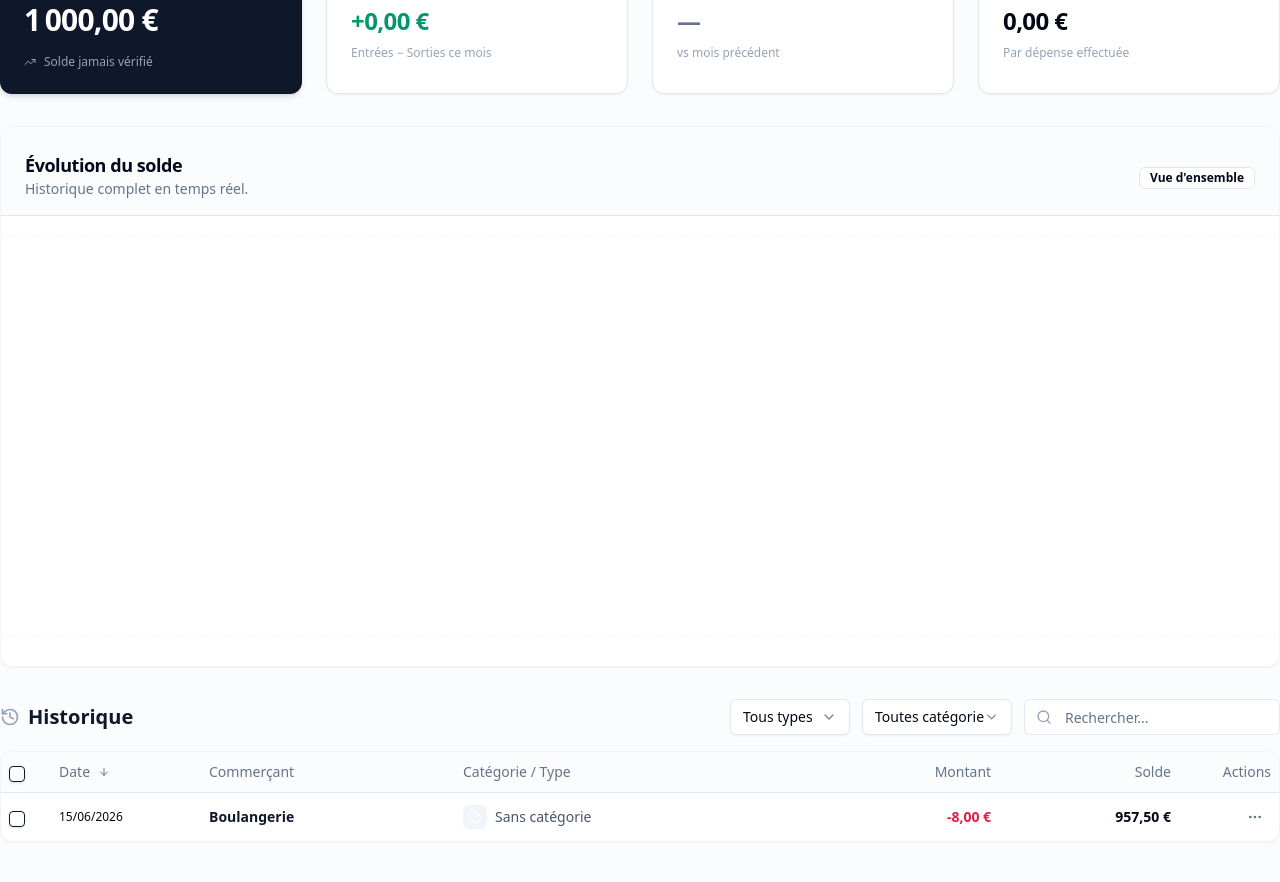
Scenario: AccountDetail : transactions › édition : dialogue prérempli, PATCH sans account_id, date naïve, toast
(page scrolled)
Step 1. Click the button titled "Actions" → coordinates (1255, 816), box [1239,800,1271,832]
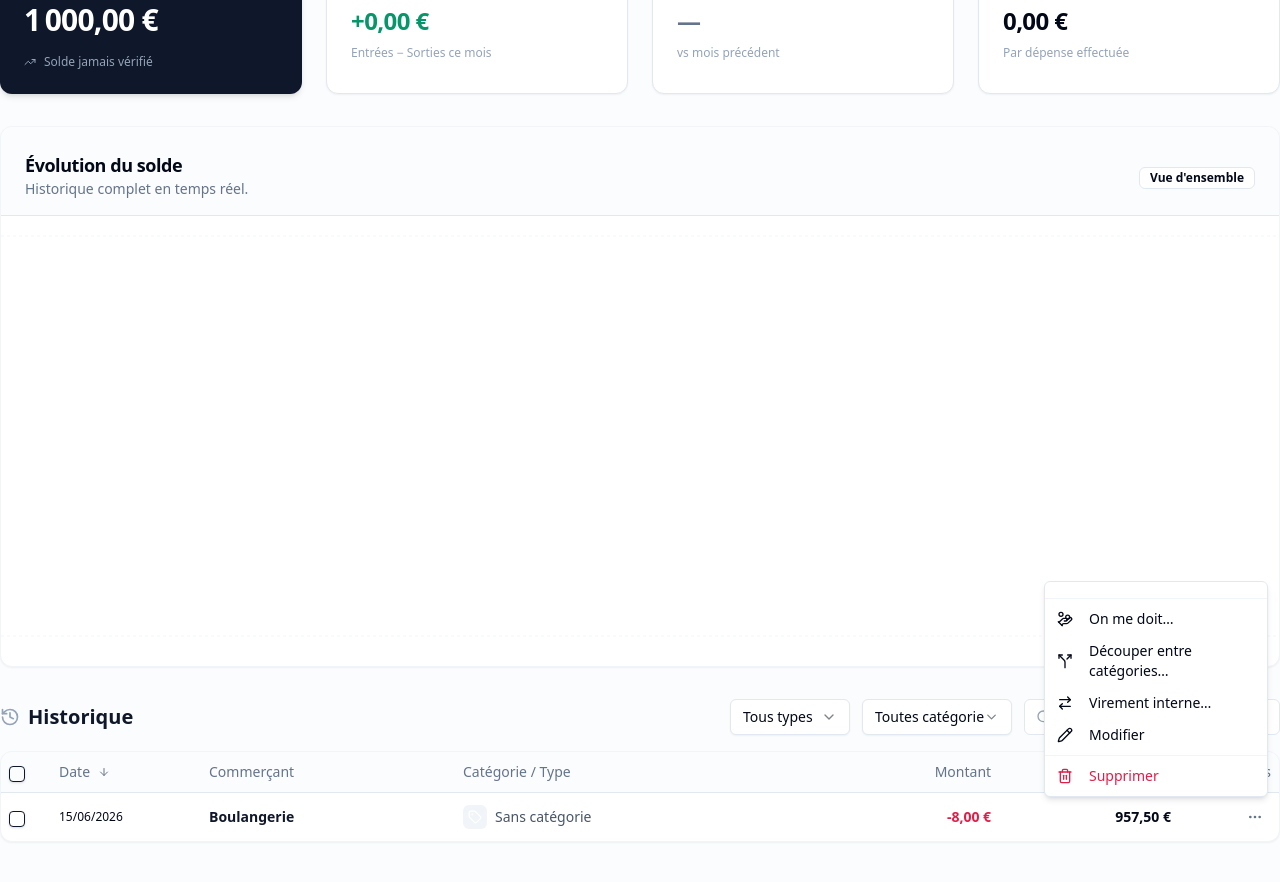
Step 2. Click the menu item "Modifier" → coordinates (1101, 734), box [1057,725,1144,744]
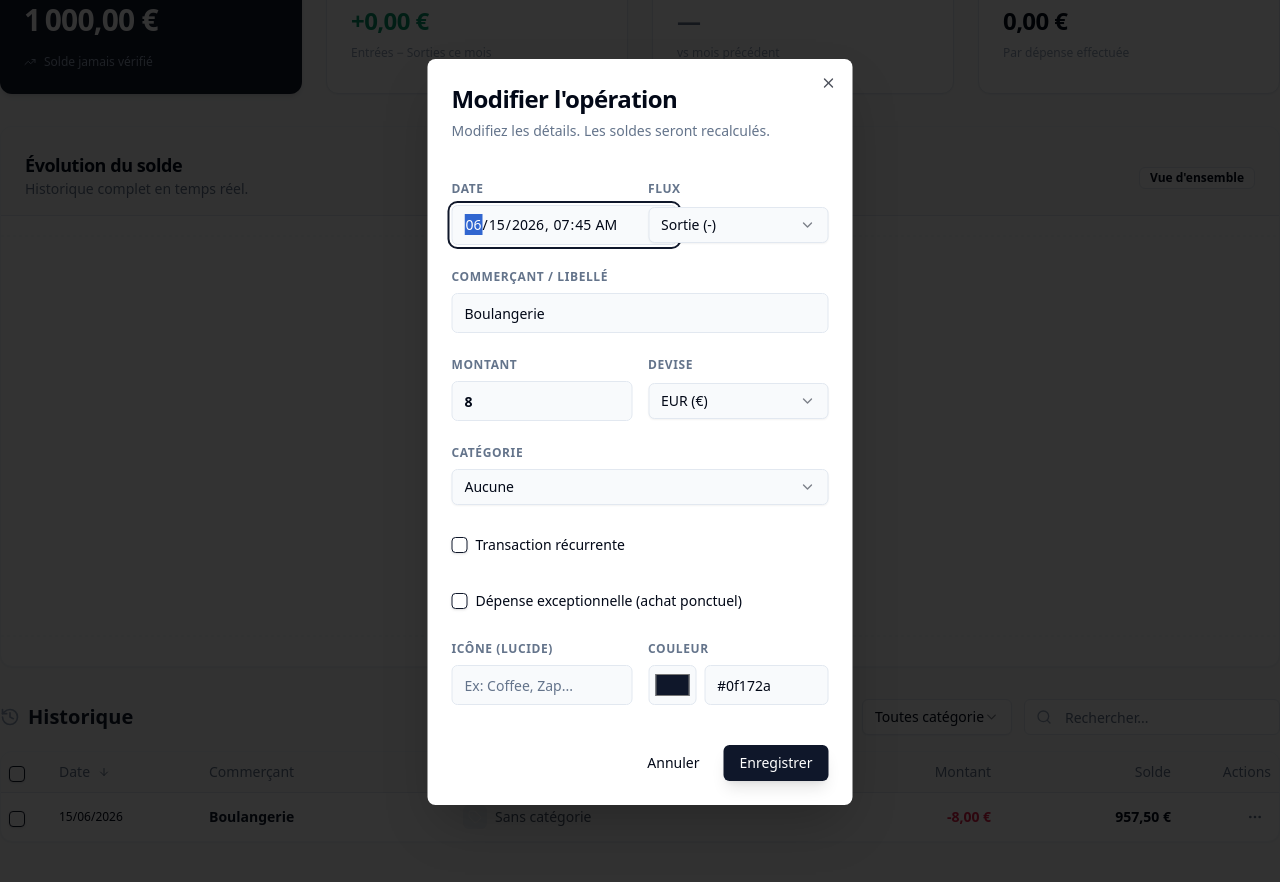
Now the heading "Modifier l'opération" is shown, box [452,82,677,115]
Now the field labelled "Date" holds "2026-06-15T07:45", box [452,205,678,245]
Now the number field labelled "Montant" holds "8"
Step 3. Replace the text in the number field labelled "Montant" with "9.2" → coordinates (542, 401), box [452,381,632,421]
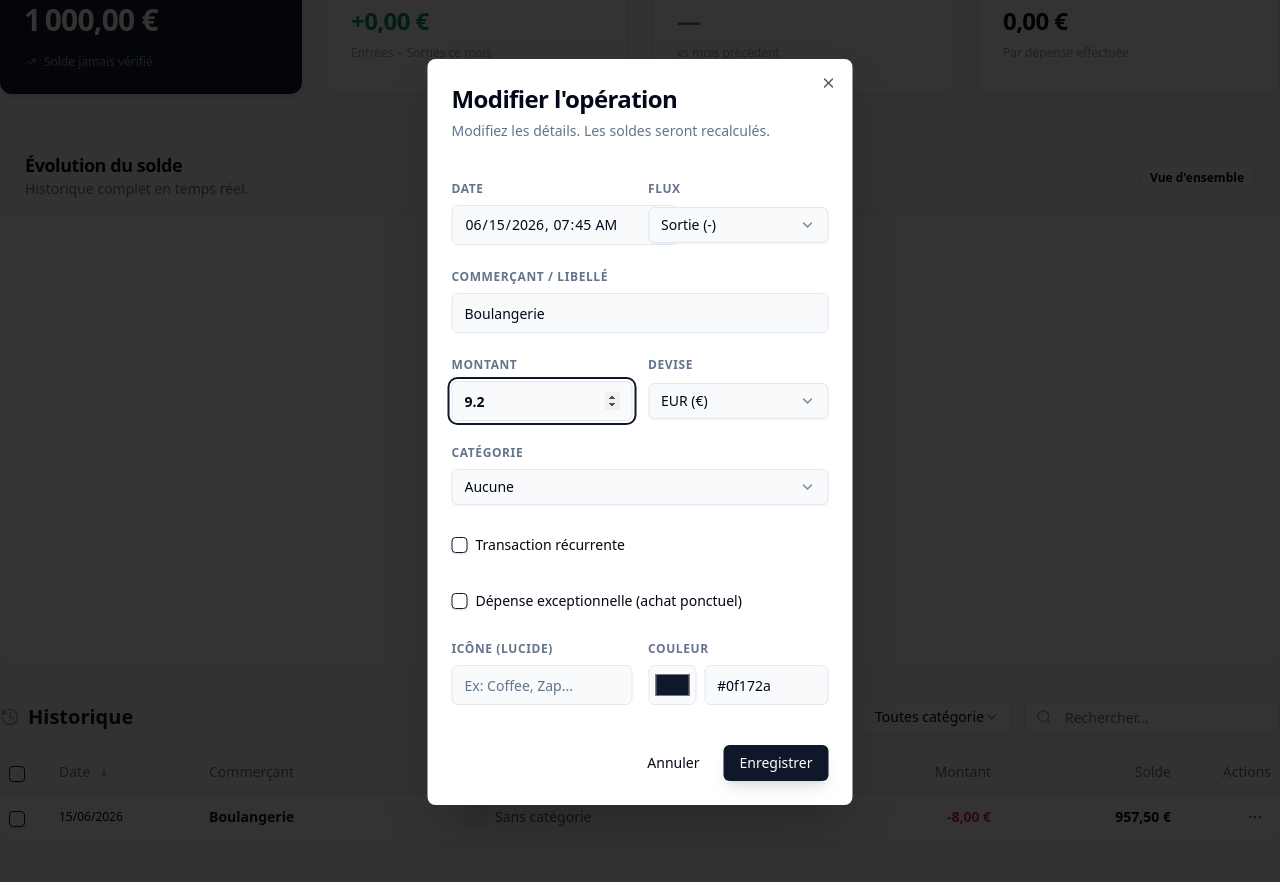
Step 4. Click the button "Enregistrer" → coordinates (776, 763), box [724,745,828,781]
(page scrolled)
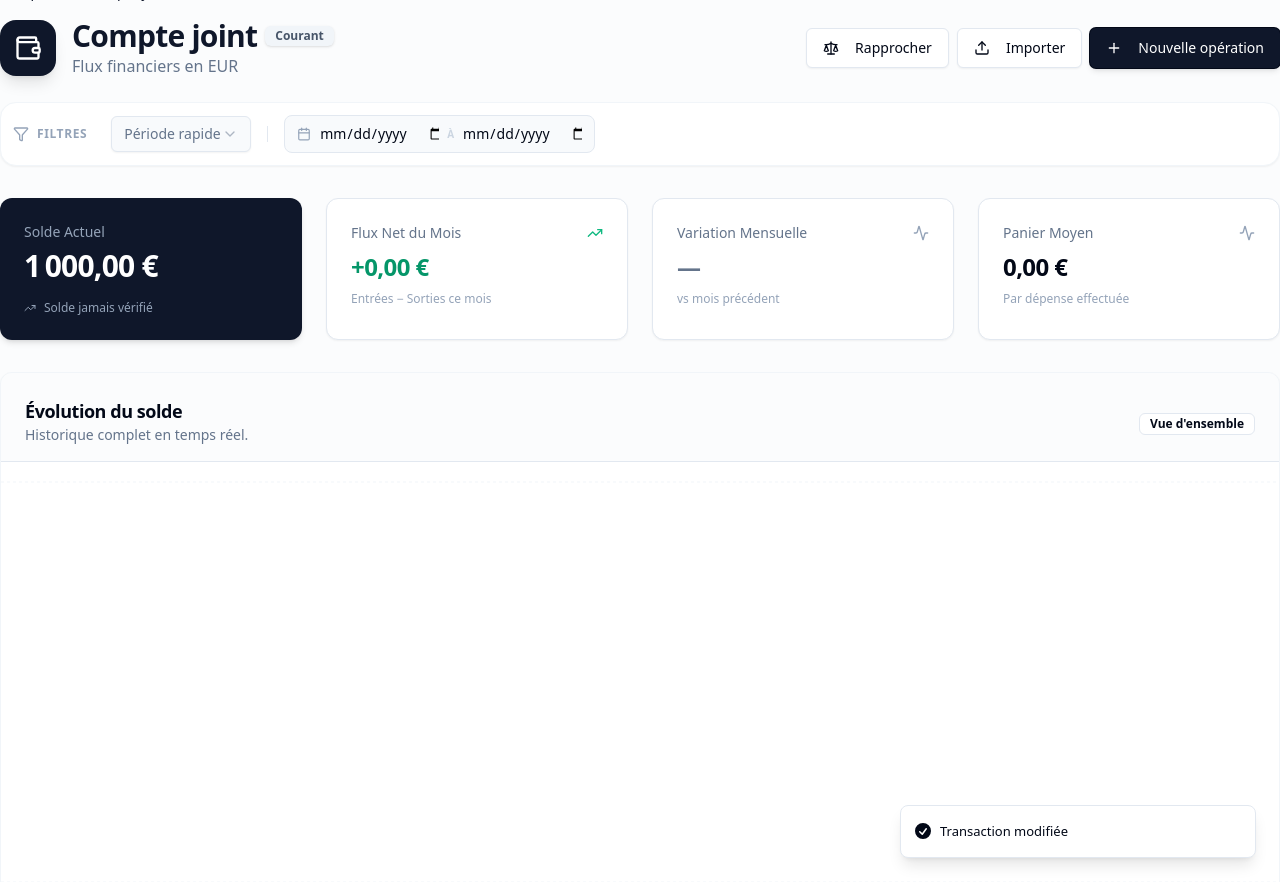
Now the text "Transaction modifiée" is shown, box [940,822,1068,841]
